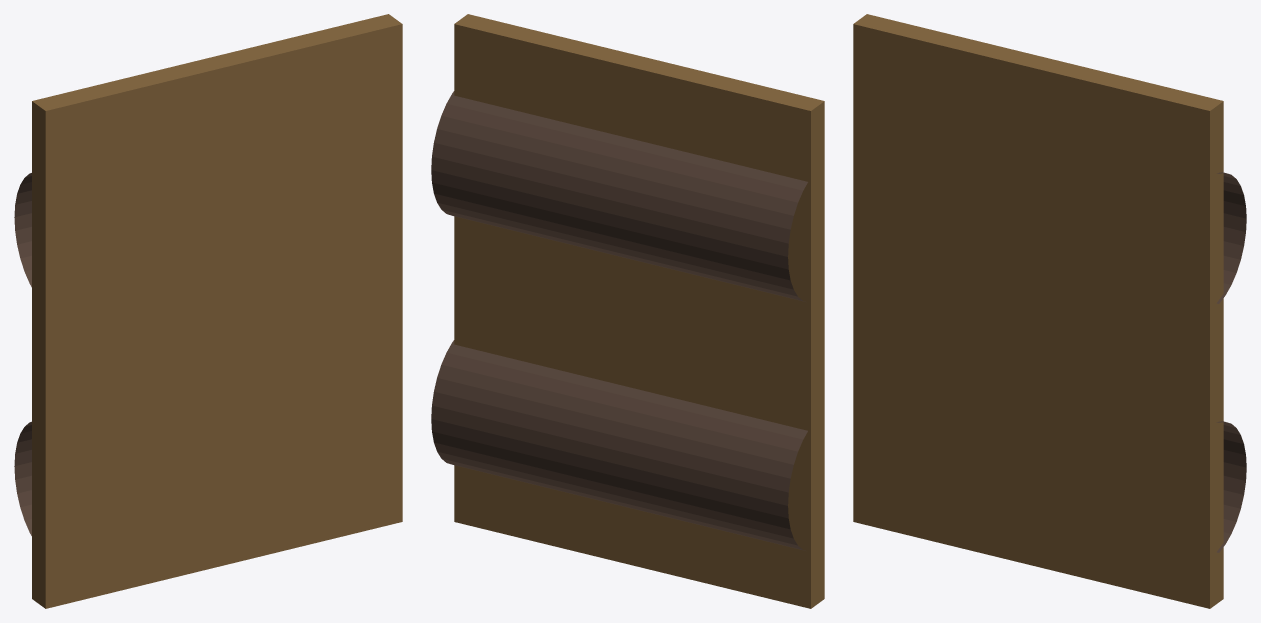
Rendered from field.fbx.
3 renders of one model, left to right at view 1: azimuth 30°, elevation 25°; view 2: azimuth 150°, elevation 25°; view 3: azimuth 330°, elevation 25°, orthographic.
Parts seen in each view (by area): view 1: 円柱.001; view 2: 円柱.001; view 3: 円柱.001.
Part boxes in pixels (x1=…): 円柱.001: x1=14, y1=14, x2=402, y2=608; 円柱.001: x1=431, y1=14, x2=824, y2=608; 円柱.001: x1=853, y1=14, x2=1246, y2=608.
Size of the model in its own units: 302 by 400 by 49.45.
